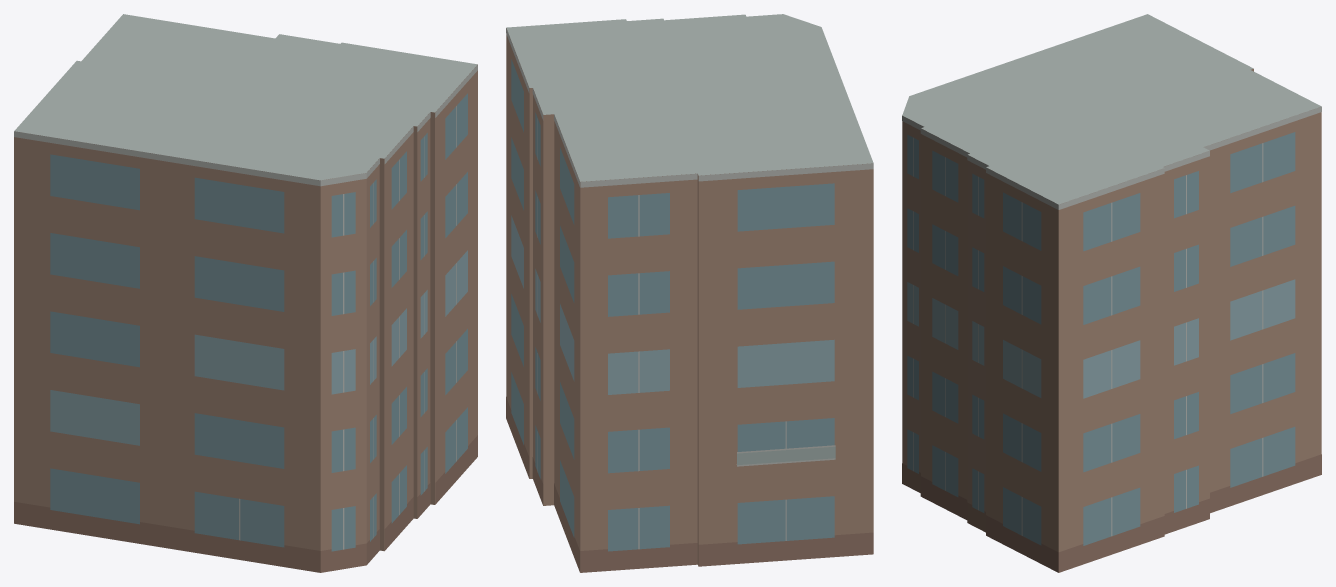
File: survey-upis-33017225.glb
3 views of the same model, side by side, from view 1: azimuth 30°, elevation 25°; view 2: azimuth 150°, elevation 25°; view 3: azimuth 270°, elevation 25° (orthographic). The views are drawn at different scales.
Visible parts, largest first — view 1: survey-upis-33017225.tmp; view 2: survey-upis-33017225.tmp; view 3: survey-upis-33017225.tmp.
Part boxes in pixels (x1,y1,x2,y2): survey-upis-33017225.tmp: [14, 14, 477, 572]; survey-upis-33017225.tmp: [506, 14, 873, 572]; survey-upis-33017225.tmp: [902, 14, 1321, 572].
Bounding box in the file's own units: 17.99 × 16.2 × 16.74.
